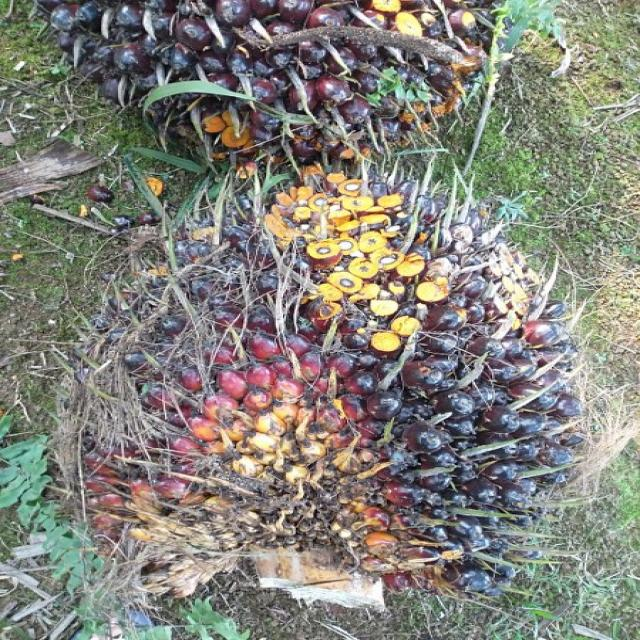fraksi 00: (23, 145, 610, 624)
